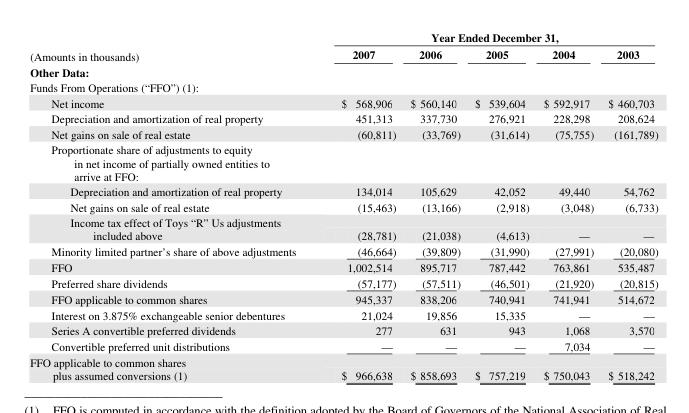table: (29, 28, 657, 382)
table column: (29, 28, 318, 382), (318, 28, 402, 382), (467, 28, 535, 382), (402, 28, 467, 382), (535, 28, 600, 382), (600, 28, 657, 382)
table column header: (29, 28, 657, 63)
table projected row header: (29, 141, 657, 182), (29, 63, 657, 79), (29, 79, 657, 94)
table row: (29, 141, 657, 182), (29, 353, 657, 382), (29, 214, 657, 242), (29, 45, 657, 63), (29, 28, 657, 45), (29, 63, 657, 79), (29, 94, 657, 110), (29, 125, 657, 141), (29, 182, 657, 198), (29, 198, 657, 214), (29, 242, 657, 258), (29, 258, 657, 274), (29, 274, 657, 290), (29, 290, 657, 306), (29, 306, 657, 322), (29, 337, 657, 353), (29, 79, 657, 94), (29, 110, 657, 125), (29, 322, 657, 337)
table spanning cell: (29, 28, 318, 63), (318, 28, 657, 45)
